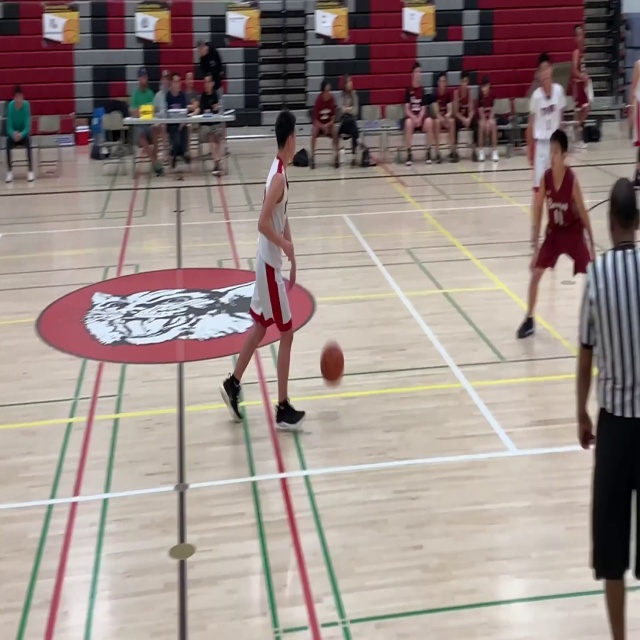Basketball: (320, 340, 344, 381)
